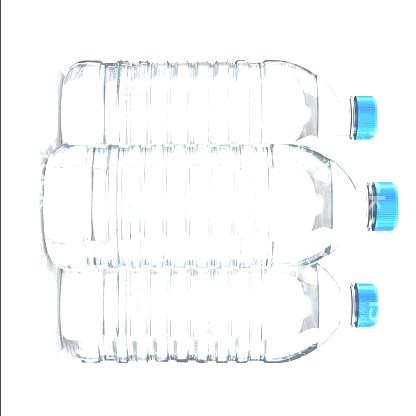bottle: (35, 140, 404, 286), (47, 254, 388, 378), (56, 56, 394, 160)
